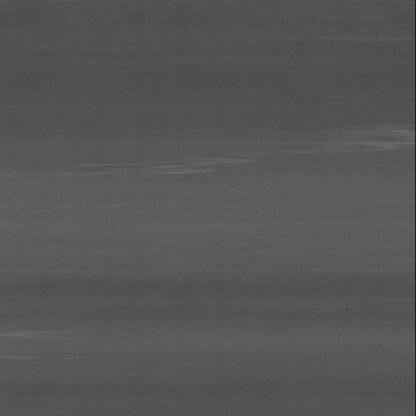silk_spot: (88, 145, 264, 185)
